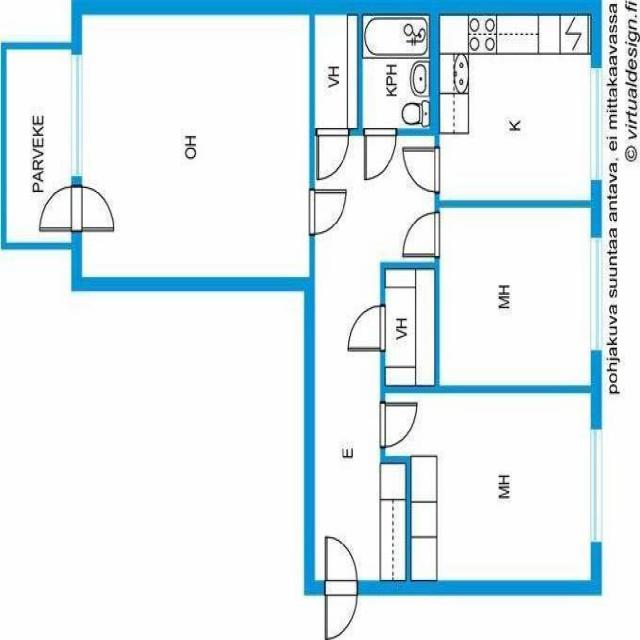door: (325, 580, 357, 638), (325, 536, 357, 594), (40, 187, 82, 230), (71, 187, 113, 230), (402, 147, 440, 192), (310, 190, 347, 234), (403, 212, 440, 255), (348, 306, 384, 350), (365, 128, 396, 178), (380, 403, 416, 446), (317, 128, 348, 177)
